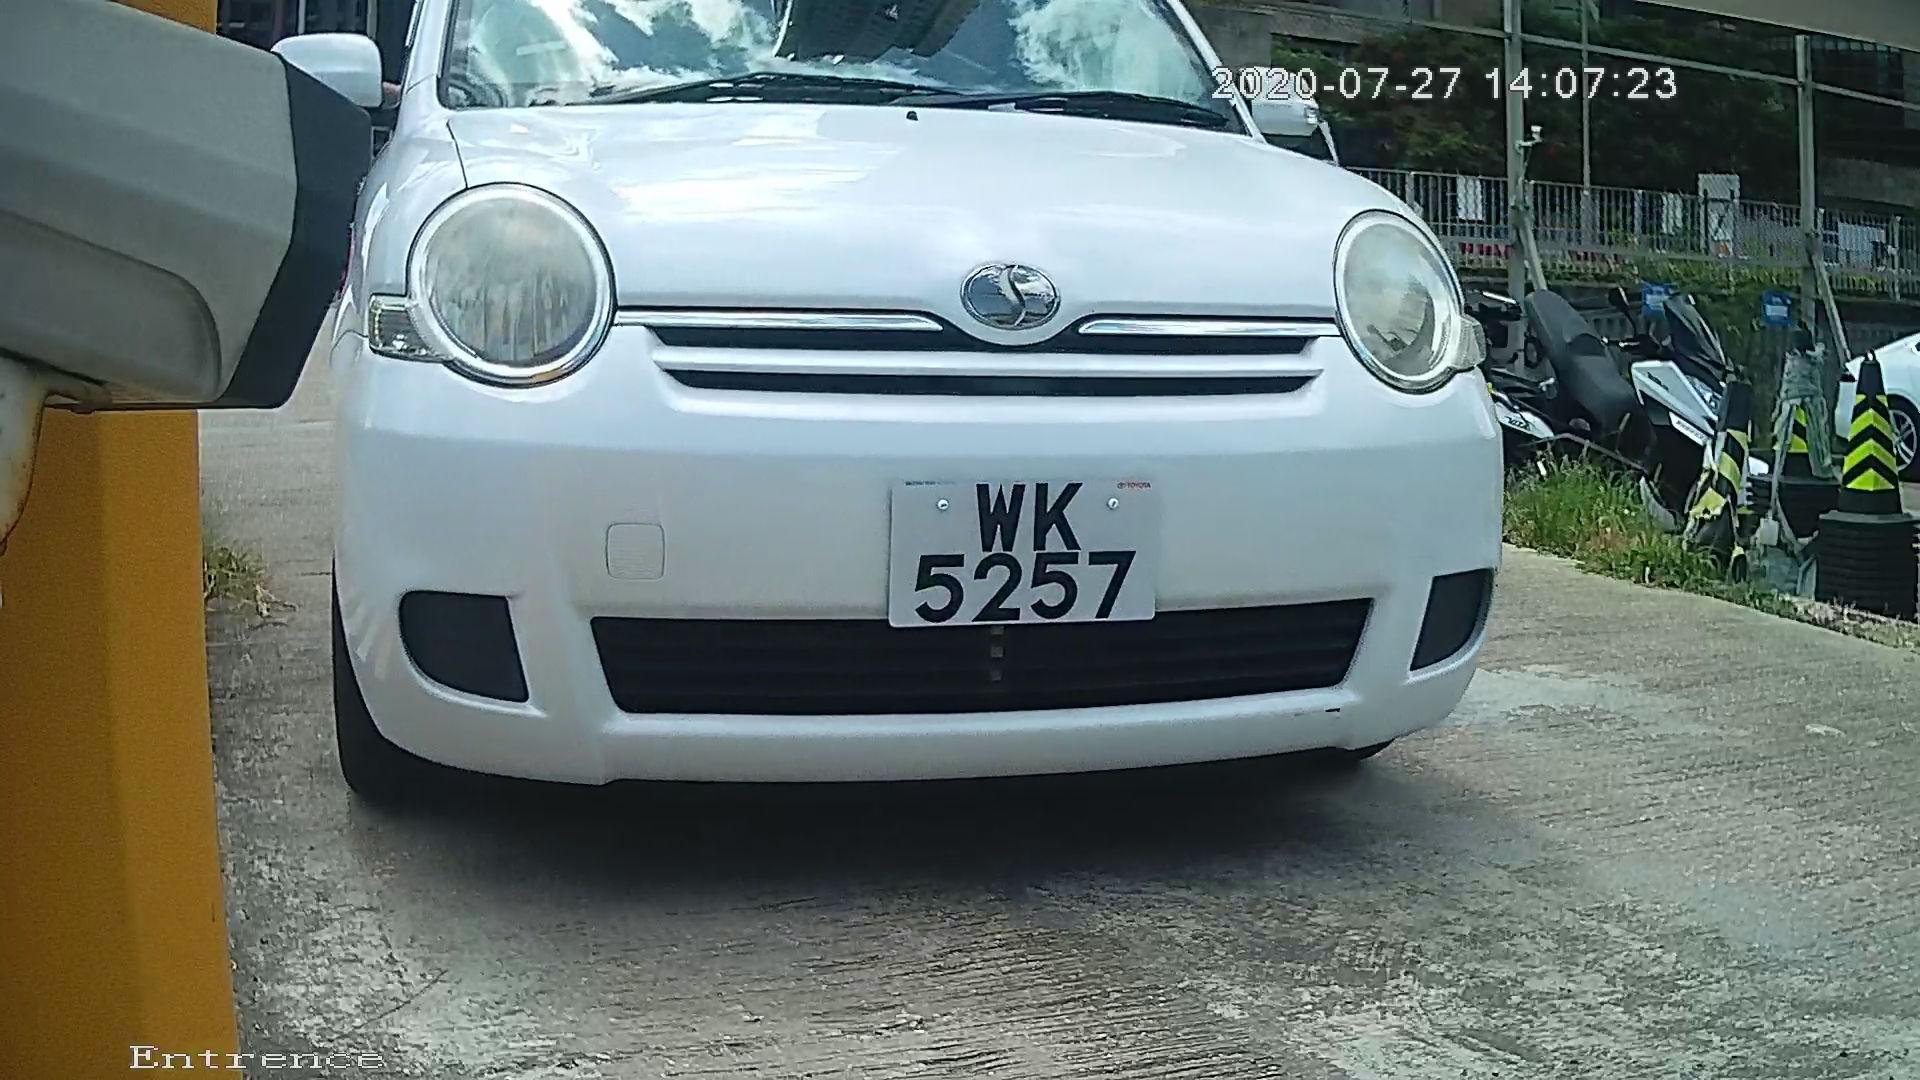privatecar: (232, 20, 1611, 844)
